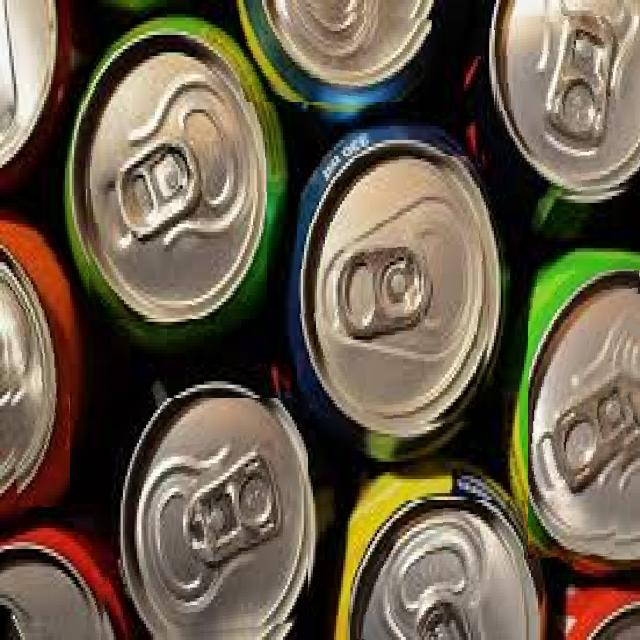Cans: (297, 156, 492, 430), (82, 38, 267, 320), (127, 398, 308, 640), (528, 270, 640, 560), (492, 16, 640, 203), (350, 500, 525, 640), (240, 0, 432, 102), (0, 238, 70, 507), (0, 535, 111, 640), (0, 0, 49, 183)
